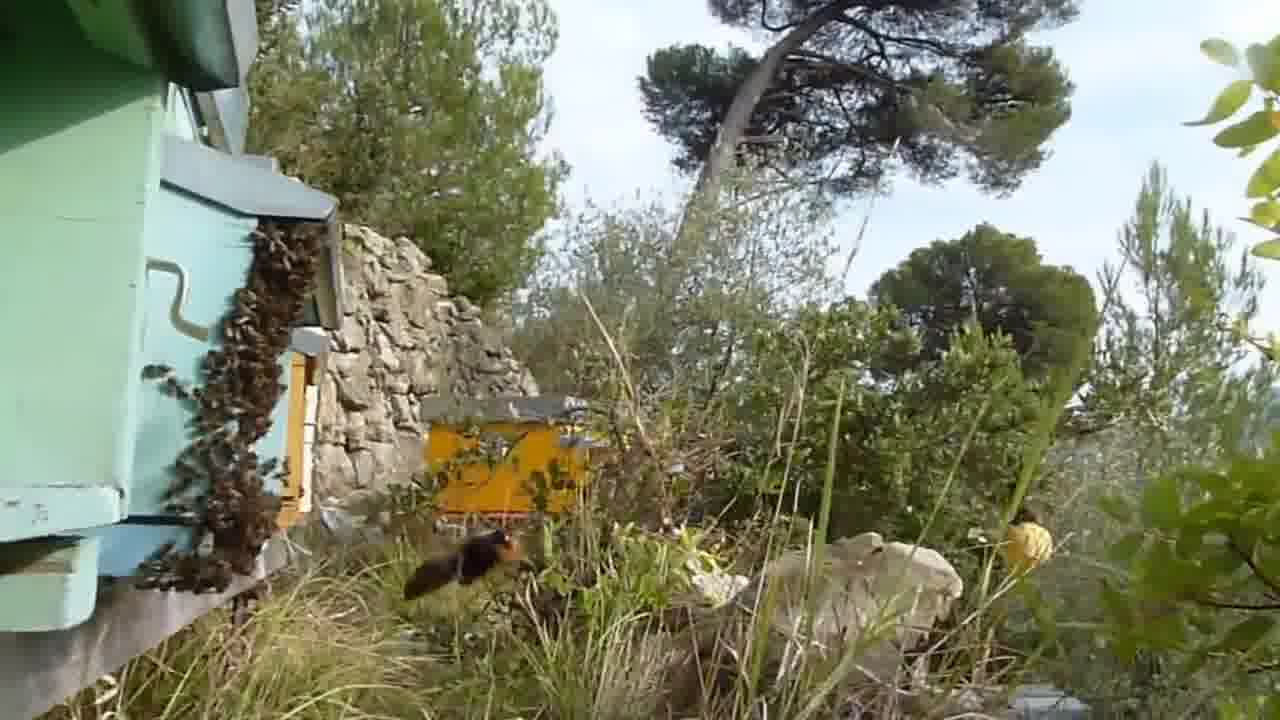bee: (205, 319, 294, 420), (182, 424, 269, 519), (247, 216, 332, 306), (152, 528, 249, 605)
hornet: (394, 515, 523, 609)
